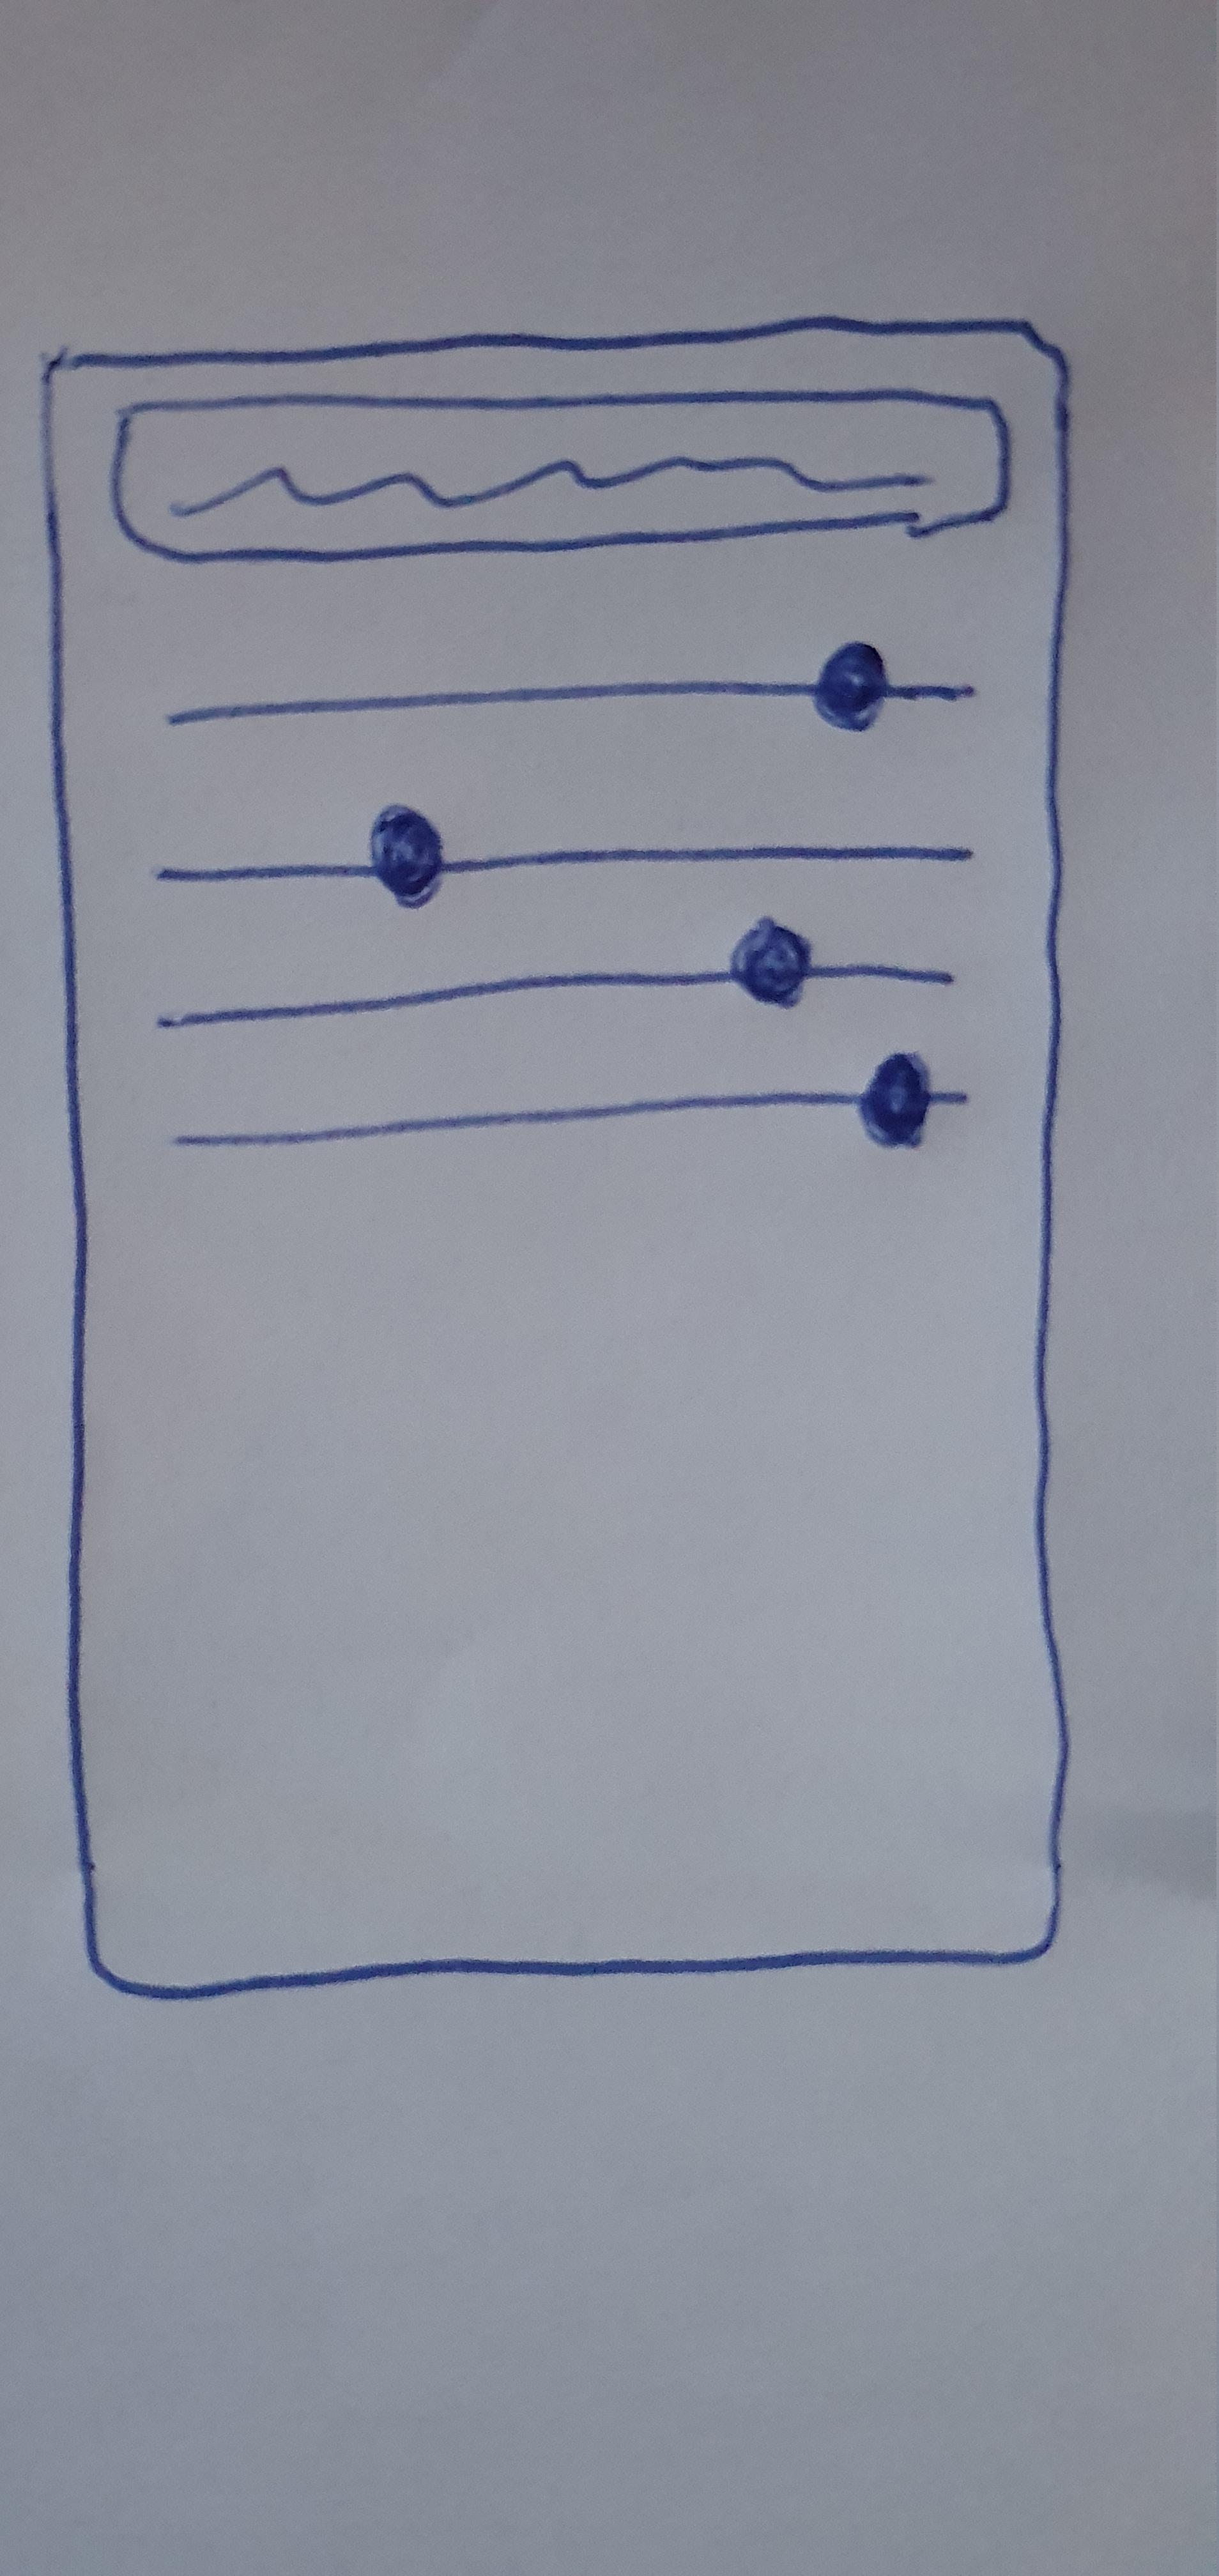Button: (110, 386, 1009, 563)
Screen: (39, 315, 1069, 1999)
Slider: (156, 917, 951, 1027), (158, 803, 973, 907), (176, 1050, 969, 1148), (171, 642, 974, 731)
